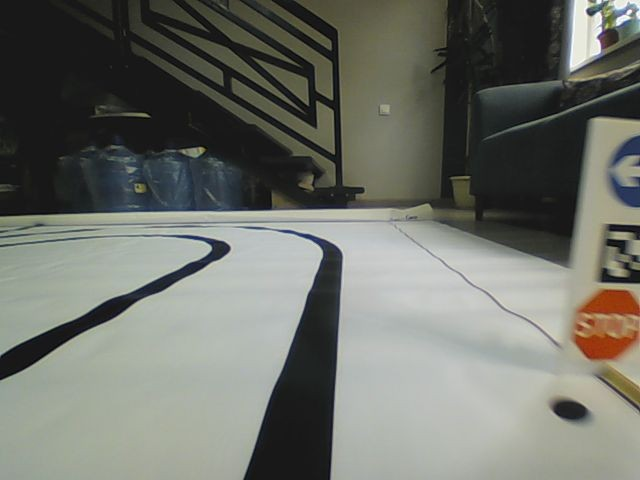Stop: (574, 287, 640, 362)
